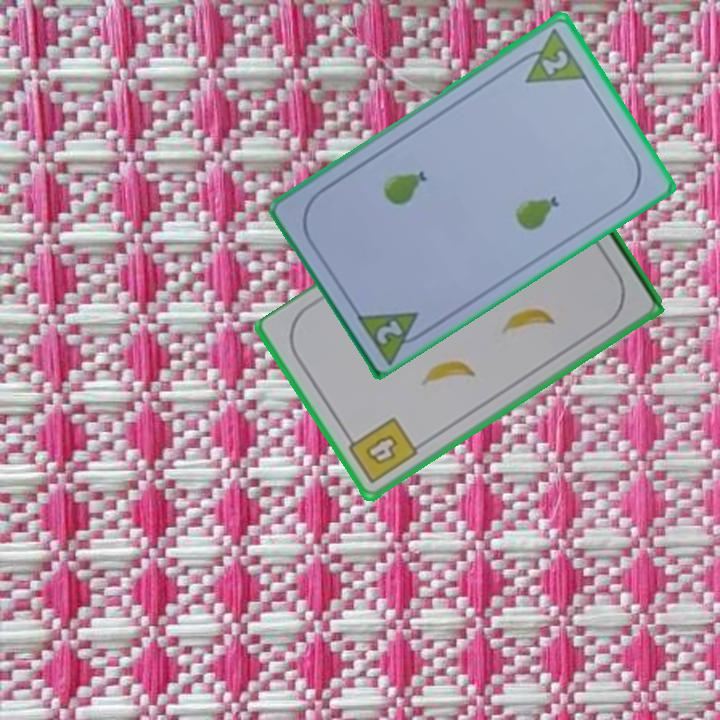2p: (511, 24, 591, 86), (372, 315, 407, 347)
4b: (341, 413, 421, 487)
